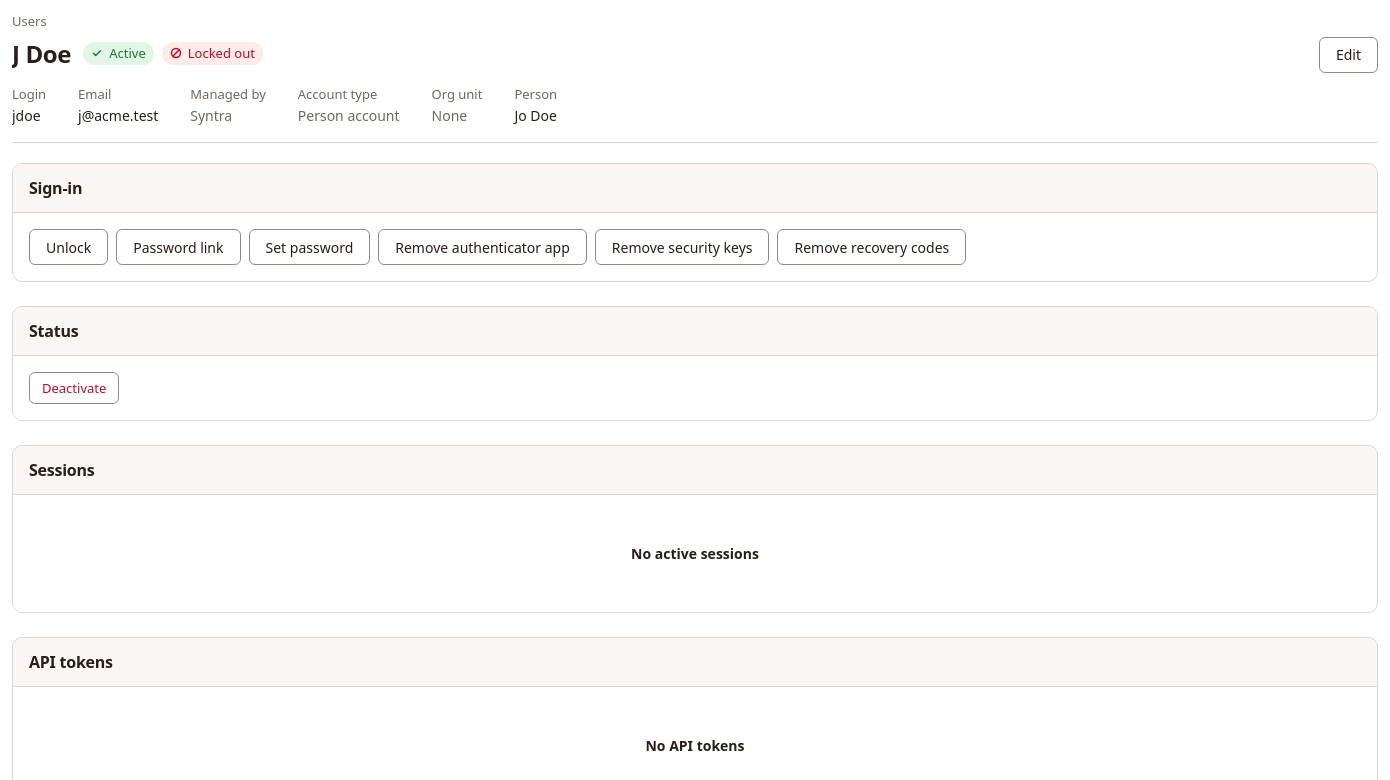
Test: AccountDetailPage › locked out › reports a failed unlock rather than appearing to succeed
Click the button "Unlock": (69,247) [29,229,108,265]
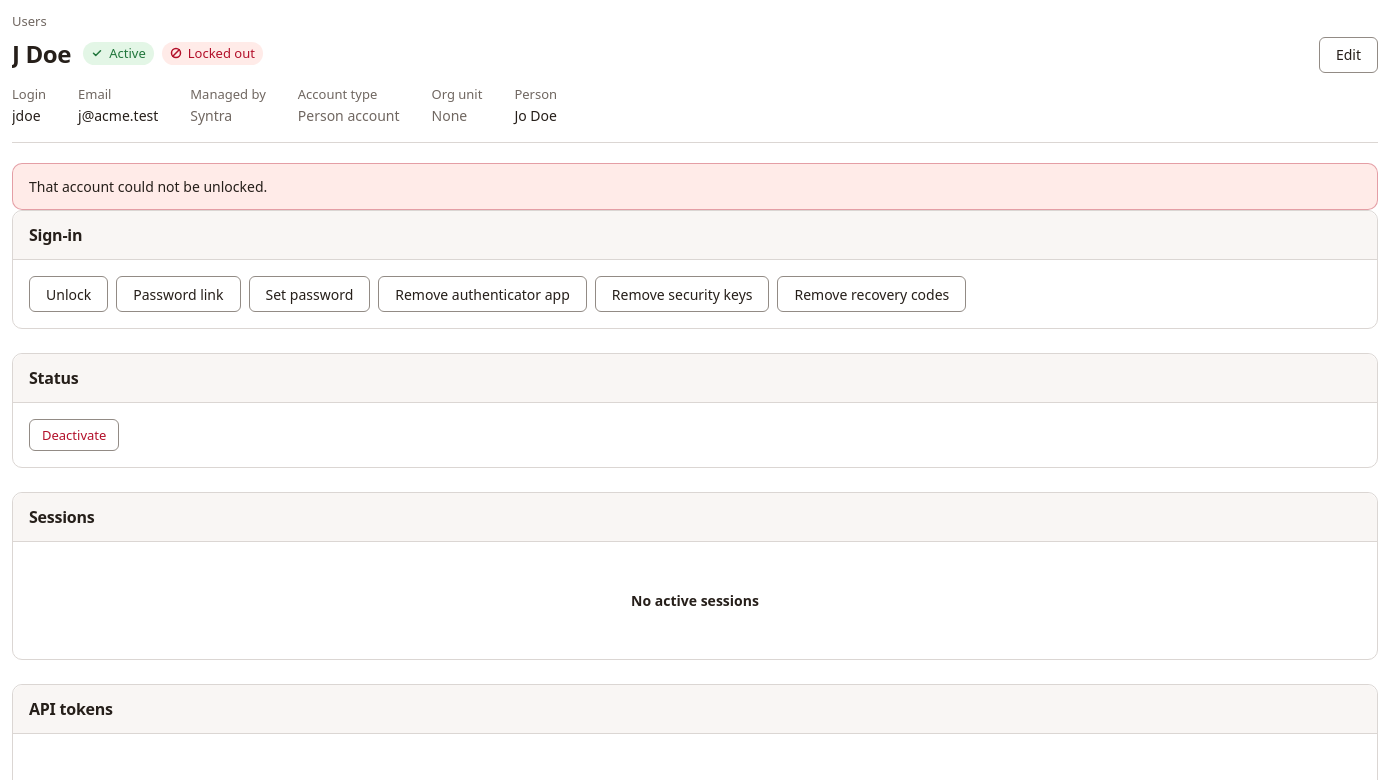
Now the text "That account could not be unlocked." is shown, box [29,177,267,196]
